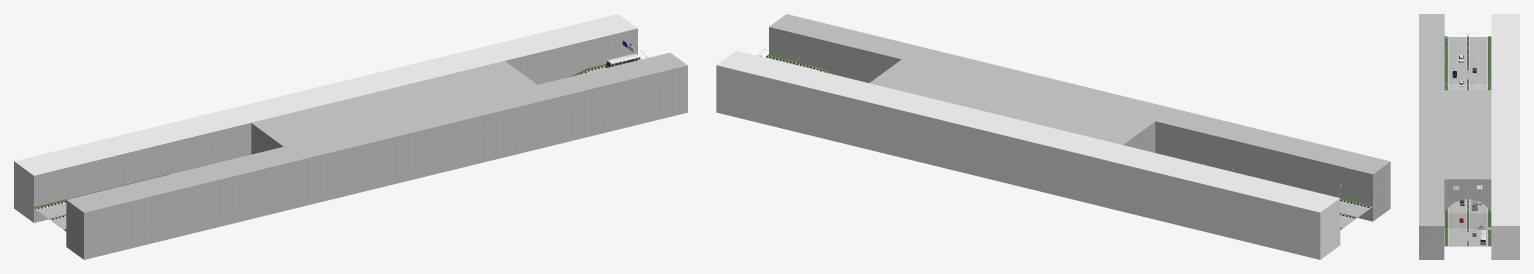
The model's file is Tunnel.fbx.
3 renders of one model, left to right at view 1: azimuth 30°, elevation 25°; view 2: azimuth 150°, elevation 25°; view 3: azimuth 270°, elevation 25°, orthographic. The views are drawn at different scales.
Visible parts, largest first — view 1: Model, ske1B6_1; view 2: Model, ske1B6_1; view 3: Model, ske1B6_1, ske31B1, ske31B2, ske1B6_6, ske1B6_5, ske1B6_2, Commercial_Bus_City1, Commercial_Truck_Armored1.
Part boxes in pixels (x1,y1,x2,y2): Model: (14, 14, 687, 259); ske1B6_1: (33, 186, 117, 231); Model: (716, 14, 1390, 259); ske1B6_1: (1288, 185, 1372, 230); Model: (1419, 14, 1519, 259); ske1B6_1: (1444, 36, 1491, 66); ske31B1: (1444, 66, 1491, 83); ske31B2: (1444, 228, 1491, 246); ske1B6_6: (1444, 212, 1491, 228); ske1B6_5: (1445, 199, 1490, 213); ske1B6_2: (1444, 83, 1491, 90); Commercial_Bus_City1: (1480, 230, 1486, 244); Commercial_Truck_Armored1: (1471, 199, 1477, 210).
Bounding box in the file's own units: 8572 × 641 × 1724.
